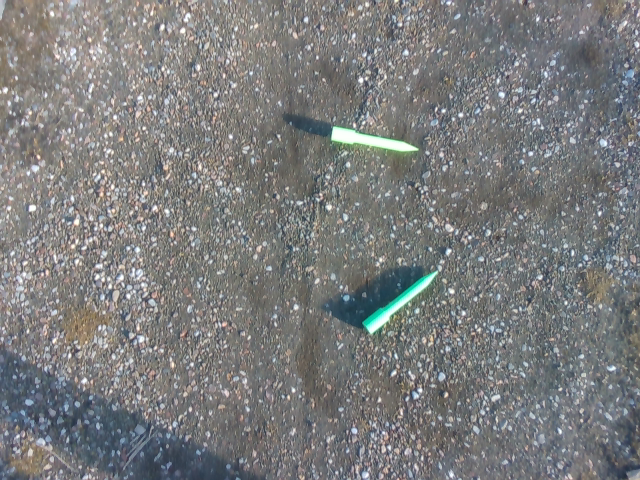Probe: (359, 264, 444, 338), (326, 122, 428, 155)
